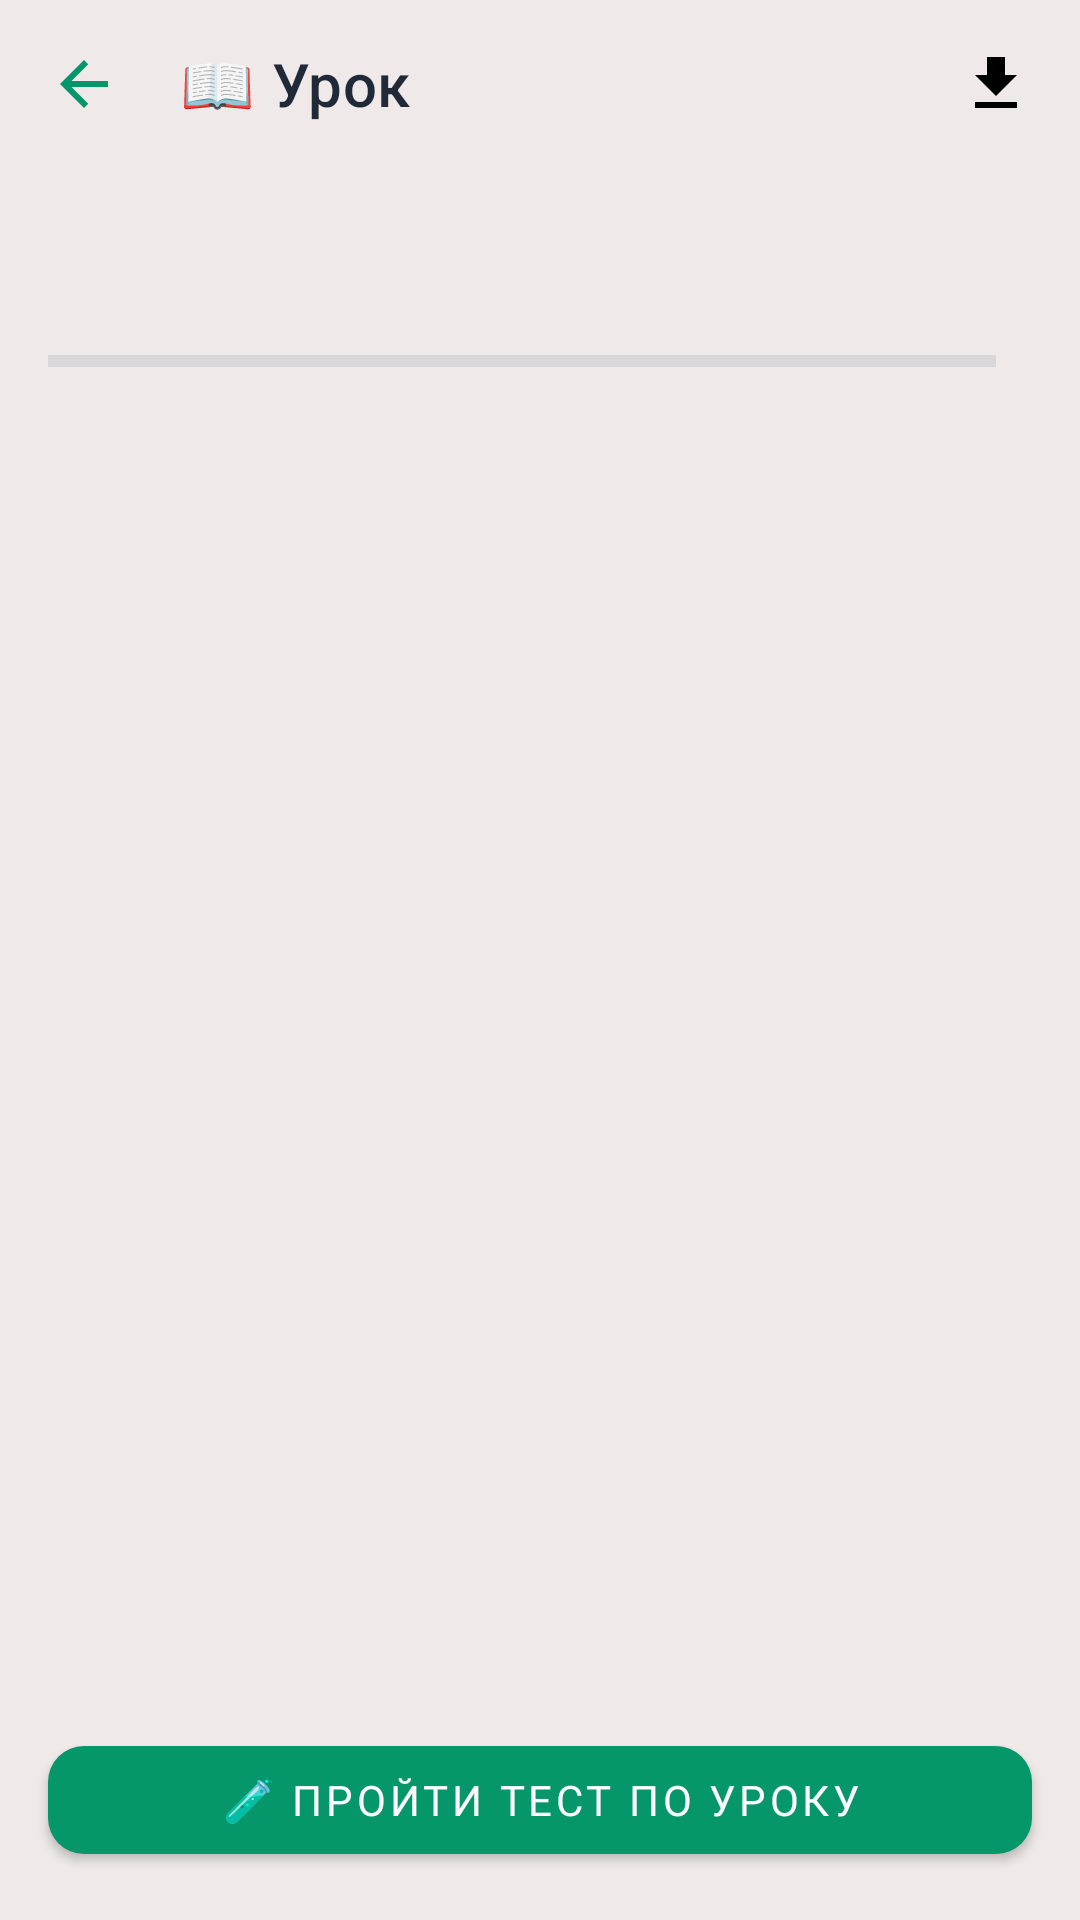

Icon bounding boxes for this 1080 × 1920 phone screenshot, format rect(x1, y1, x2, y2):
Скачать урок: rect(975, 57, 1017, 108)
